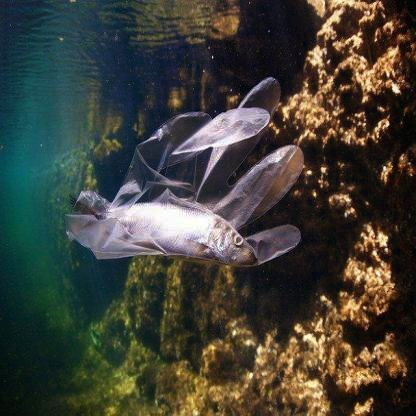glove: (62, 70, 303, 293)
